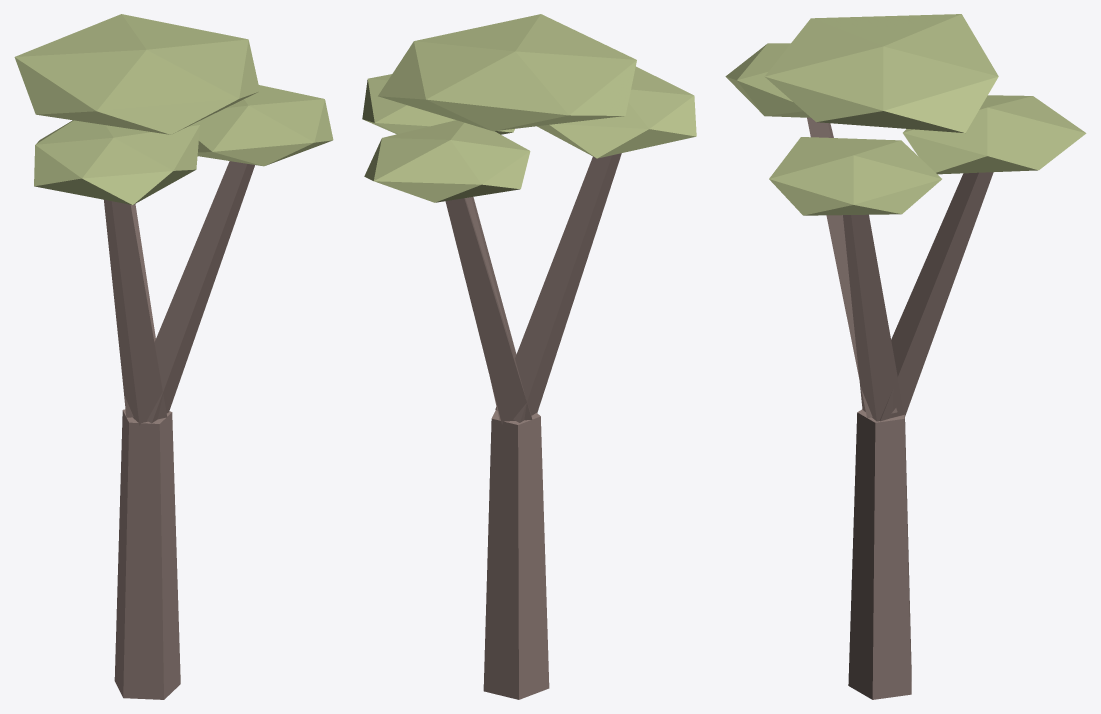
The model's file is arv_acacia_2_sem_textura.glb.
3 renders of one model, left to right at view 1: azimuth 30°, elevation 25°; view 2: azimuth 150°, elevation 25°; view 3: azimuth 270°, elevation 25°, orthographic.
Visible parts, largest first — view 1: arv_acacia_2; view 2: arv_acacia_2; view 3: arv_acacia_2.
Boxes of the visible parts, x1=… form: arv_acacia_2: x1=14, y1=14, x2=333, y2=699; arv_acacia_2: x1=362, y1=14, x2=696, y2=699; arv_acacia_2: x1=725, y1=14, x2=1086, y2=699.
Bounding box in the file's own units: 0.8222 × 1.61 × 0.8246.
